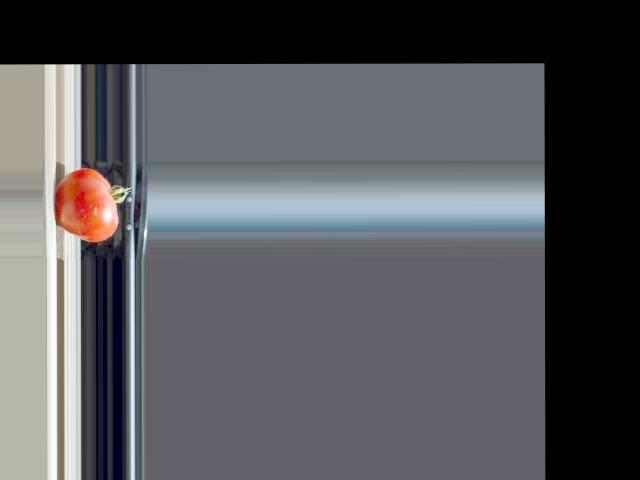tomato: (56, 168, 131, 241)
